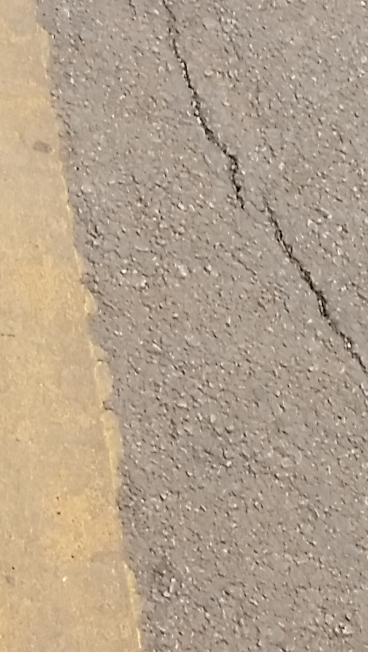A: (120, 1, 361, 381)
